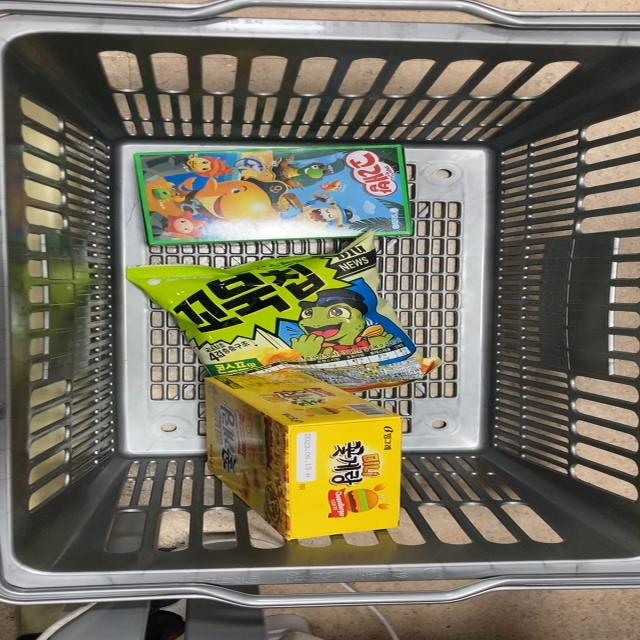ggobukchip: (152, 251, 428, 380)
goraebob: (120, 136, 426, 252)
minicrab: (182, 376, 422, 539)
